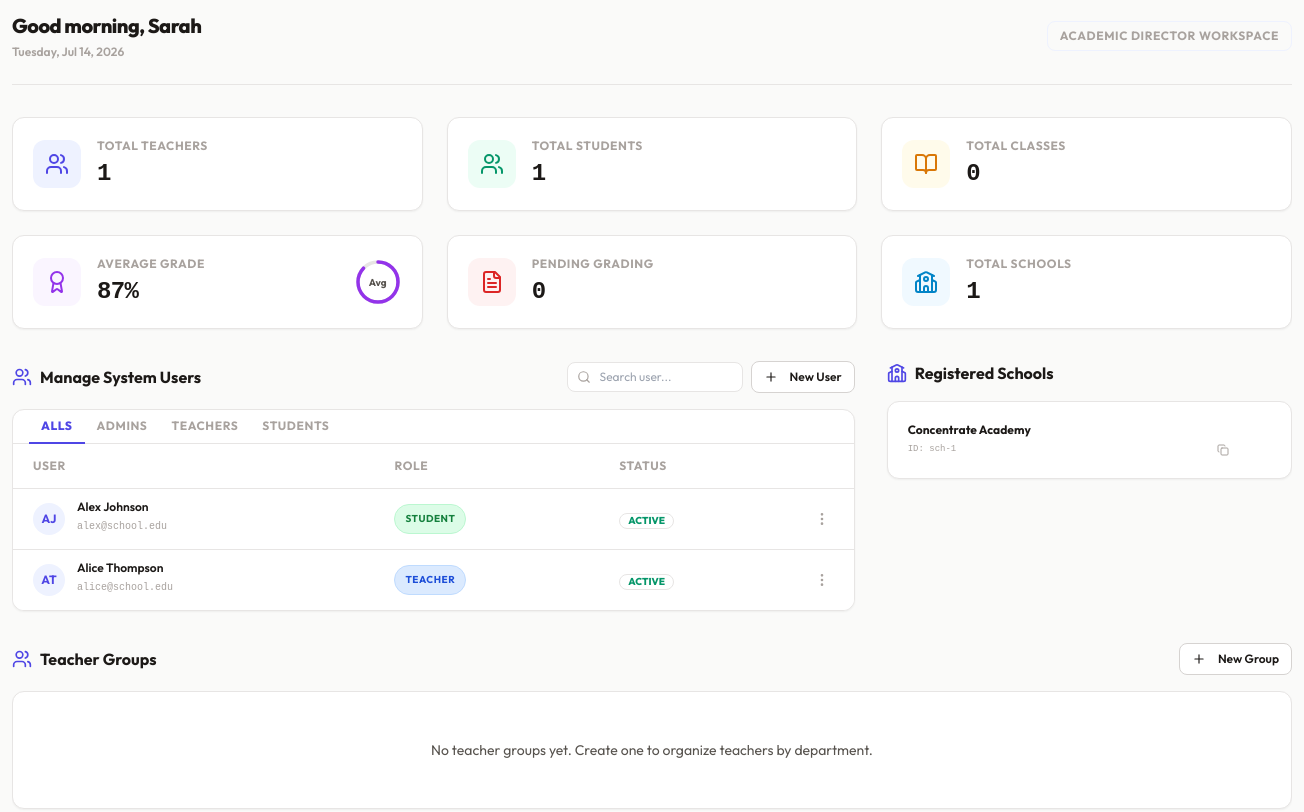
it: AdminDashboard › falls back to the default suspension error when the API rejects a non-Error value
Expected: the text "Alex Johnson" is shown, [77, 499, 148, 514]
Click the button without text in the row of "AJ".
click(822, 518)  # box [810, 506, 834, 530]
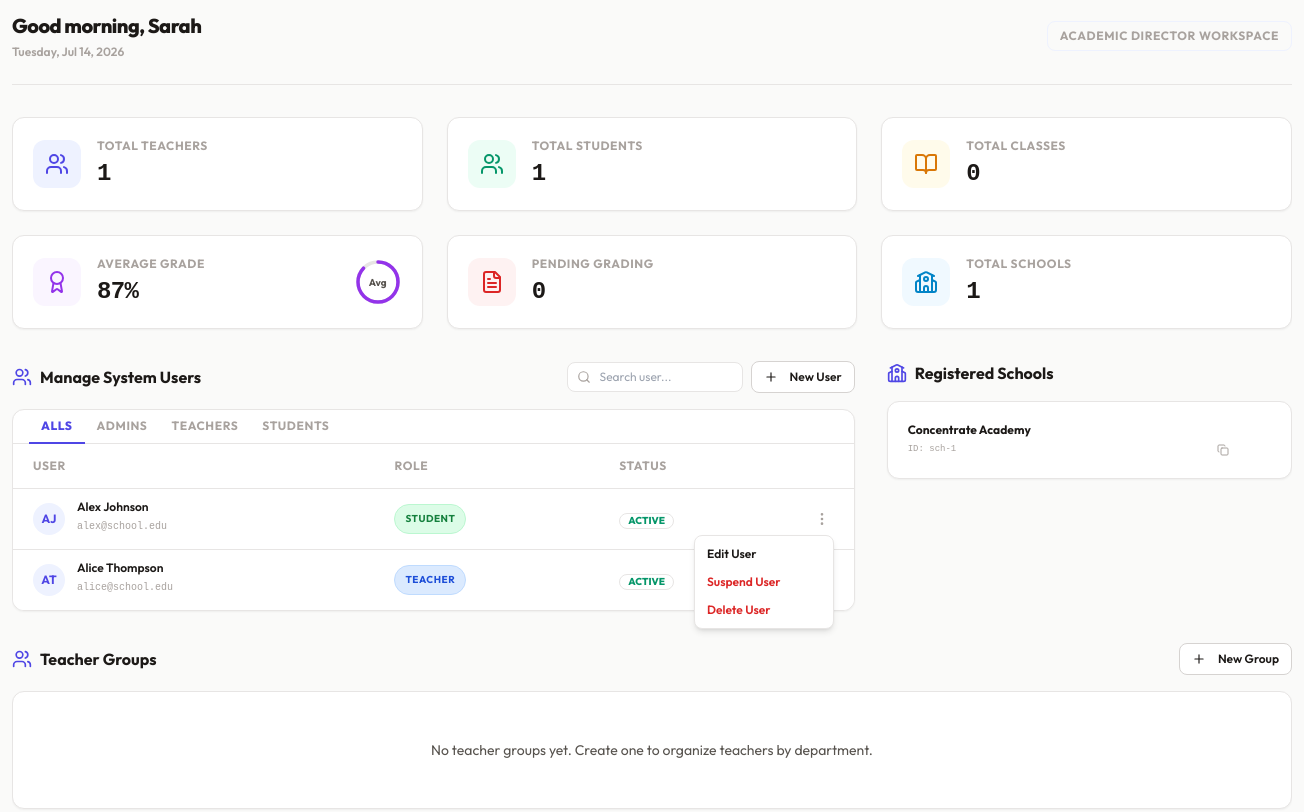
Click the menu item "Suspend User".
click(744, 582)  # box [707, 574, 781, 589]
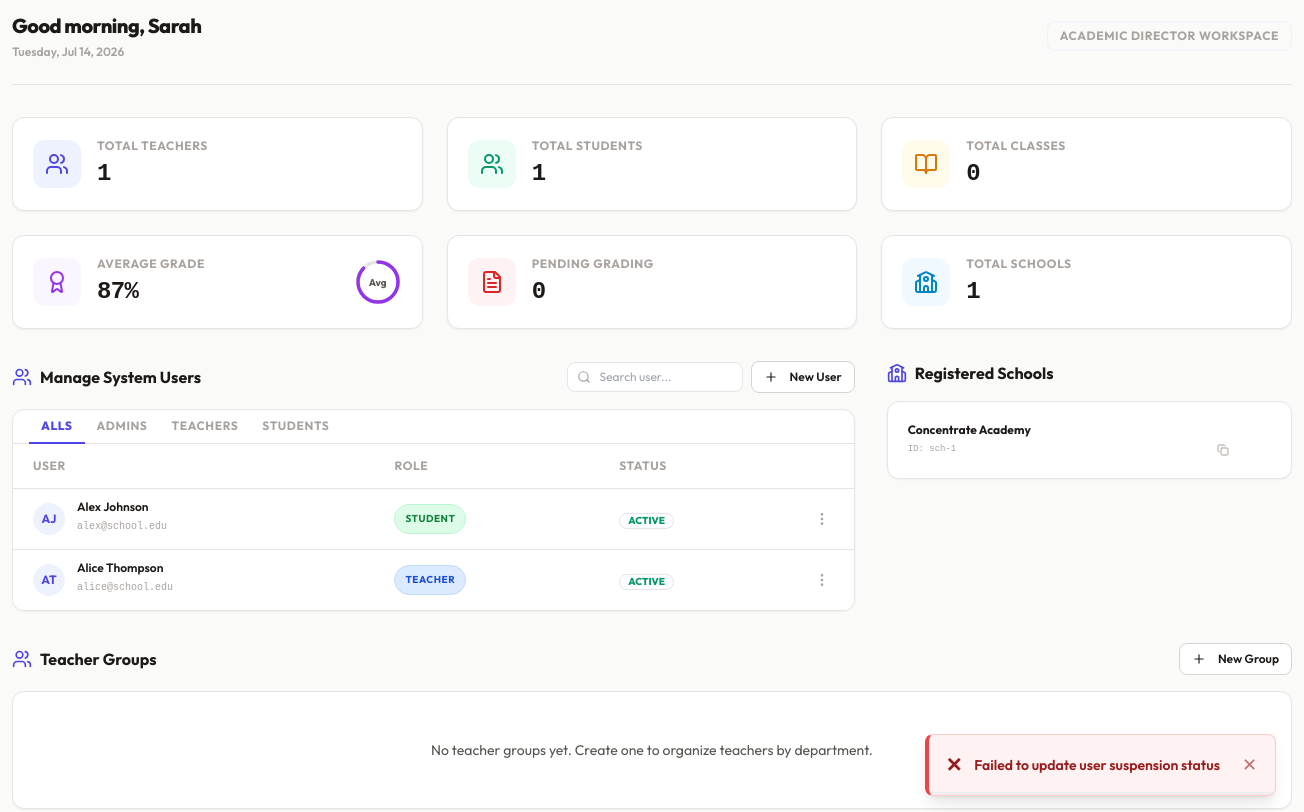
Expected: the text "Failed to update user suspension status" is shown, [974, 755, 1228, 775]
